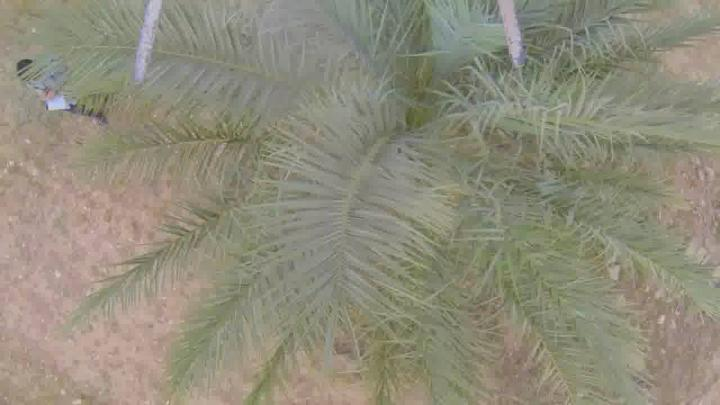Date-Palm-Crown: (247, 0, 603, 300)
